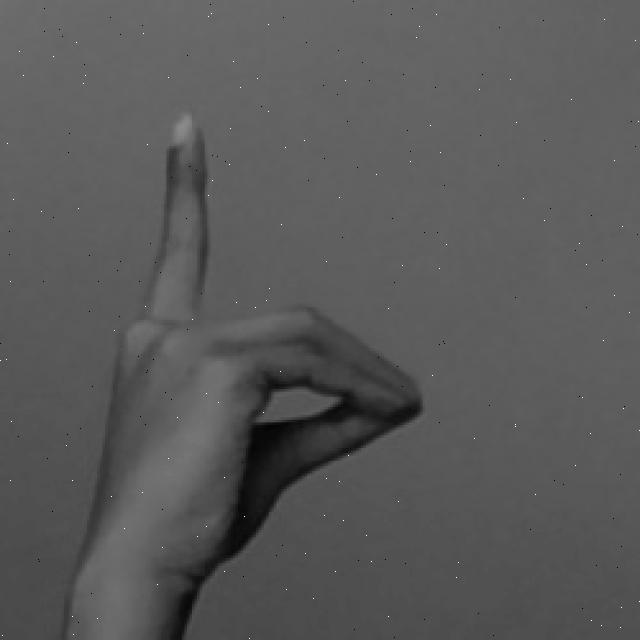D: (60, 110, 430, 638)
